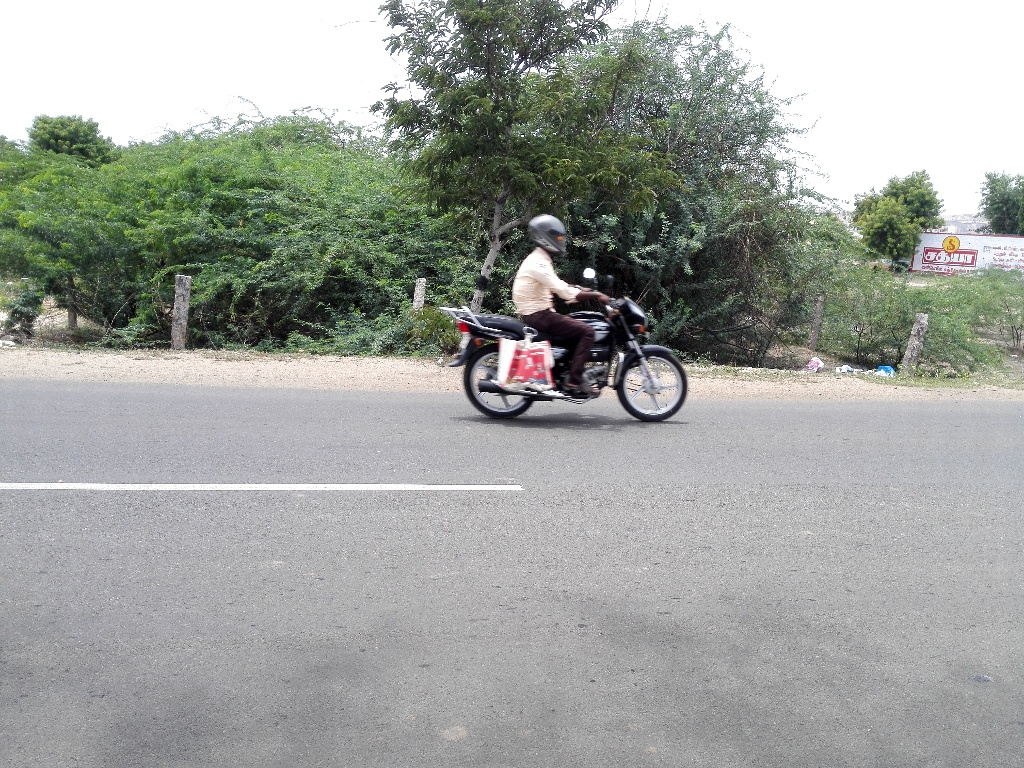biker: (424, 183, 715, 439)
helmet: (521, 202, 581, 271)
